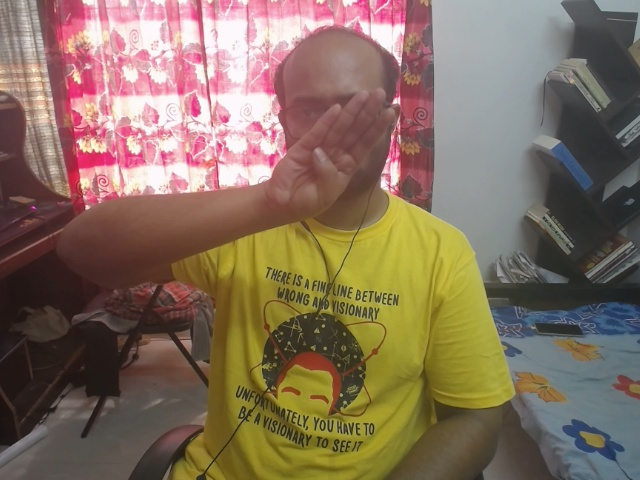counting: (256, 61, 405, 240)
